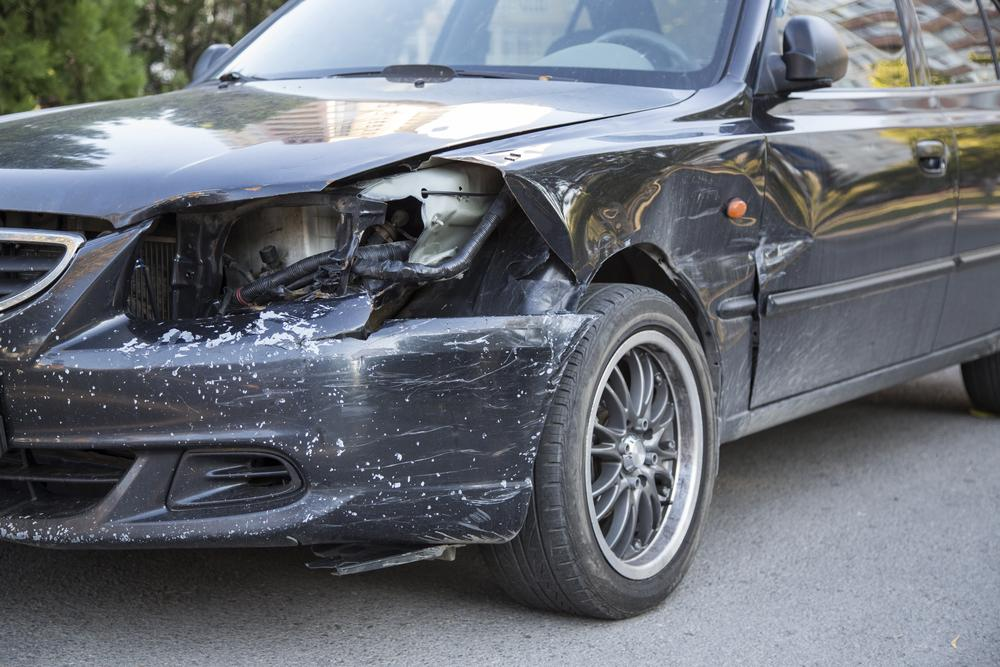crack: (301, 303, 387, 343)
dent: (669, 138, 766, 297), (755, 148, 817, 279)
scratch: (222, 316, 589, 551)
